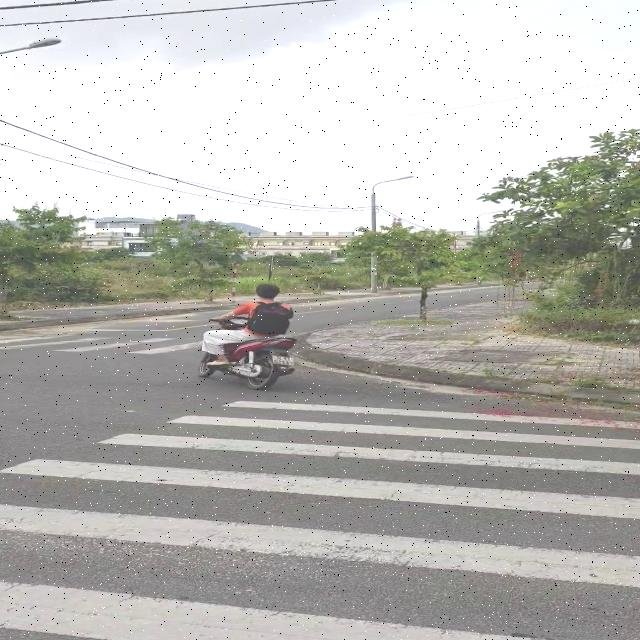no_helmet: (255, 283, 279, 298)
